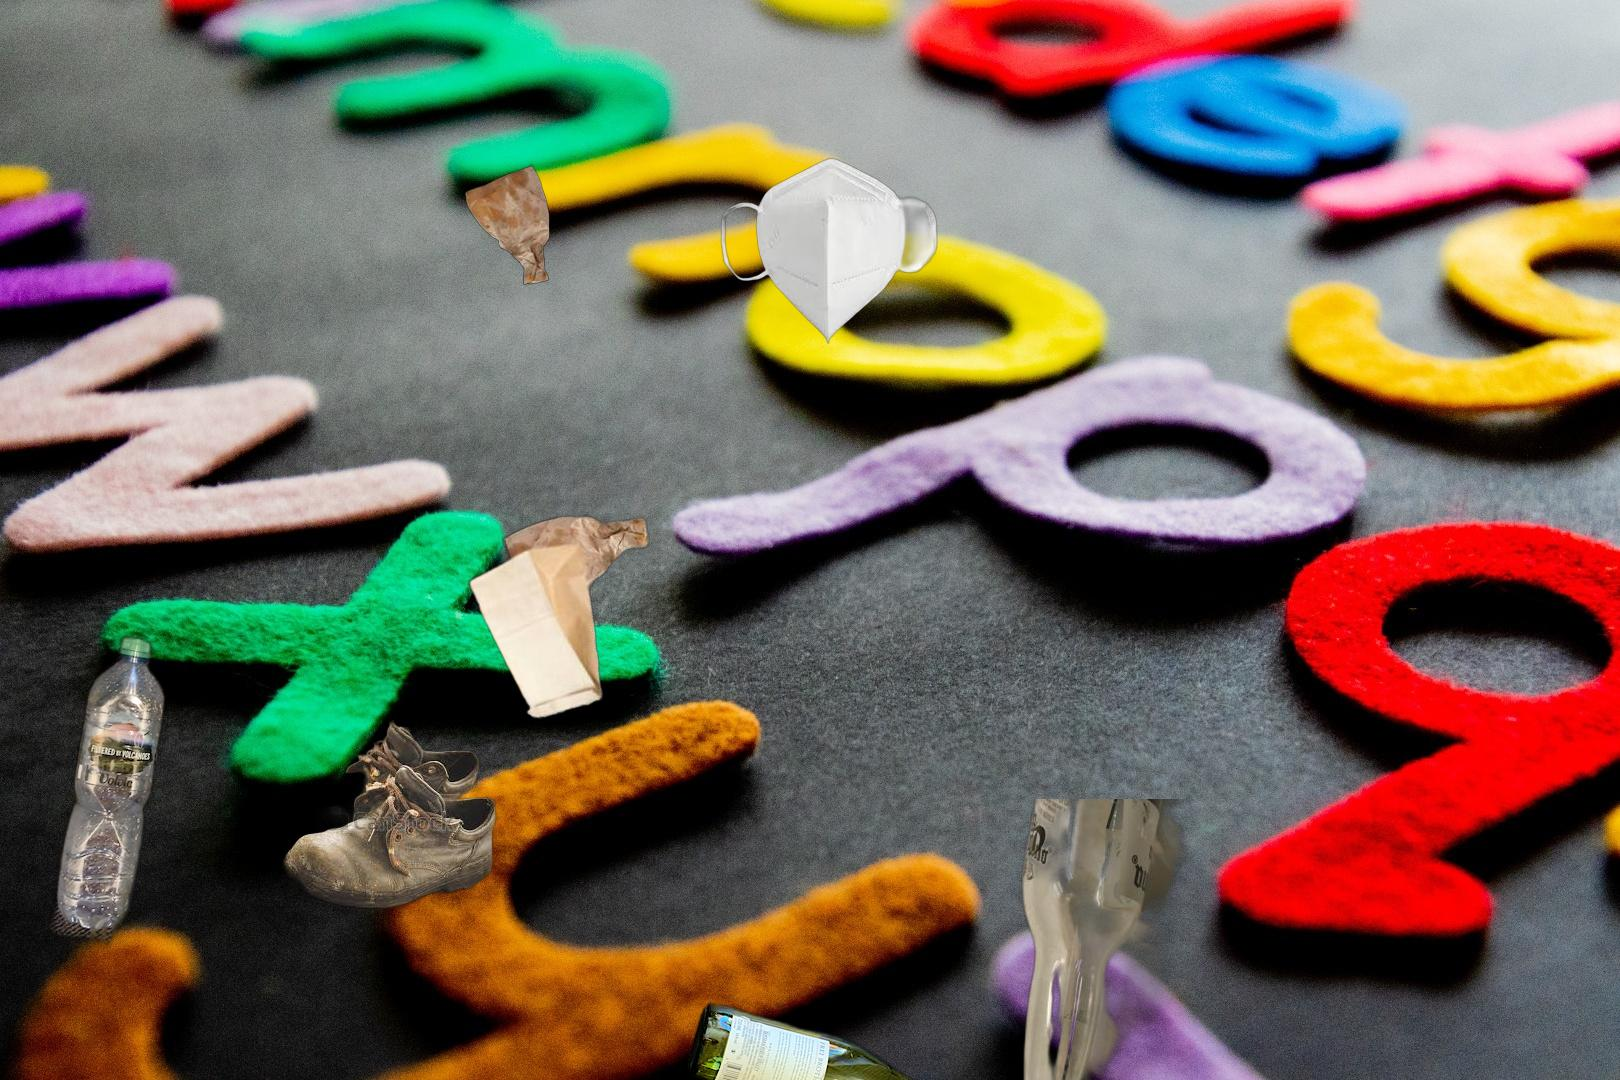glass: (1015, 799, 1361, 1080), (683, 997, 976, 1080)
paper-bag: (372, 466, 653, 722), (462, 162, 553, 286)
plastic-bottles: (41, 628, 169, 953)
shoes: (268, 718, 501, 932)
trash: (717, 155, 940, 346)
